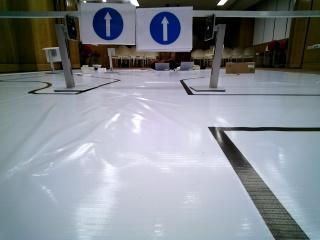straight: (79, 0, 139, 43), (136, 8, 190, 49)
